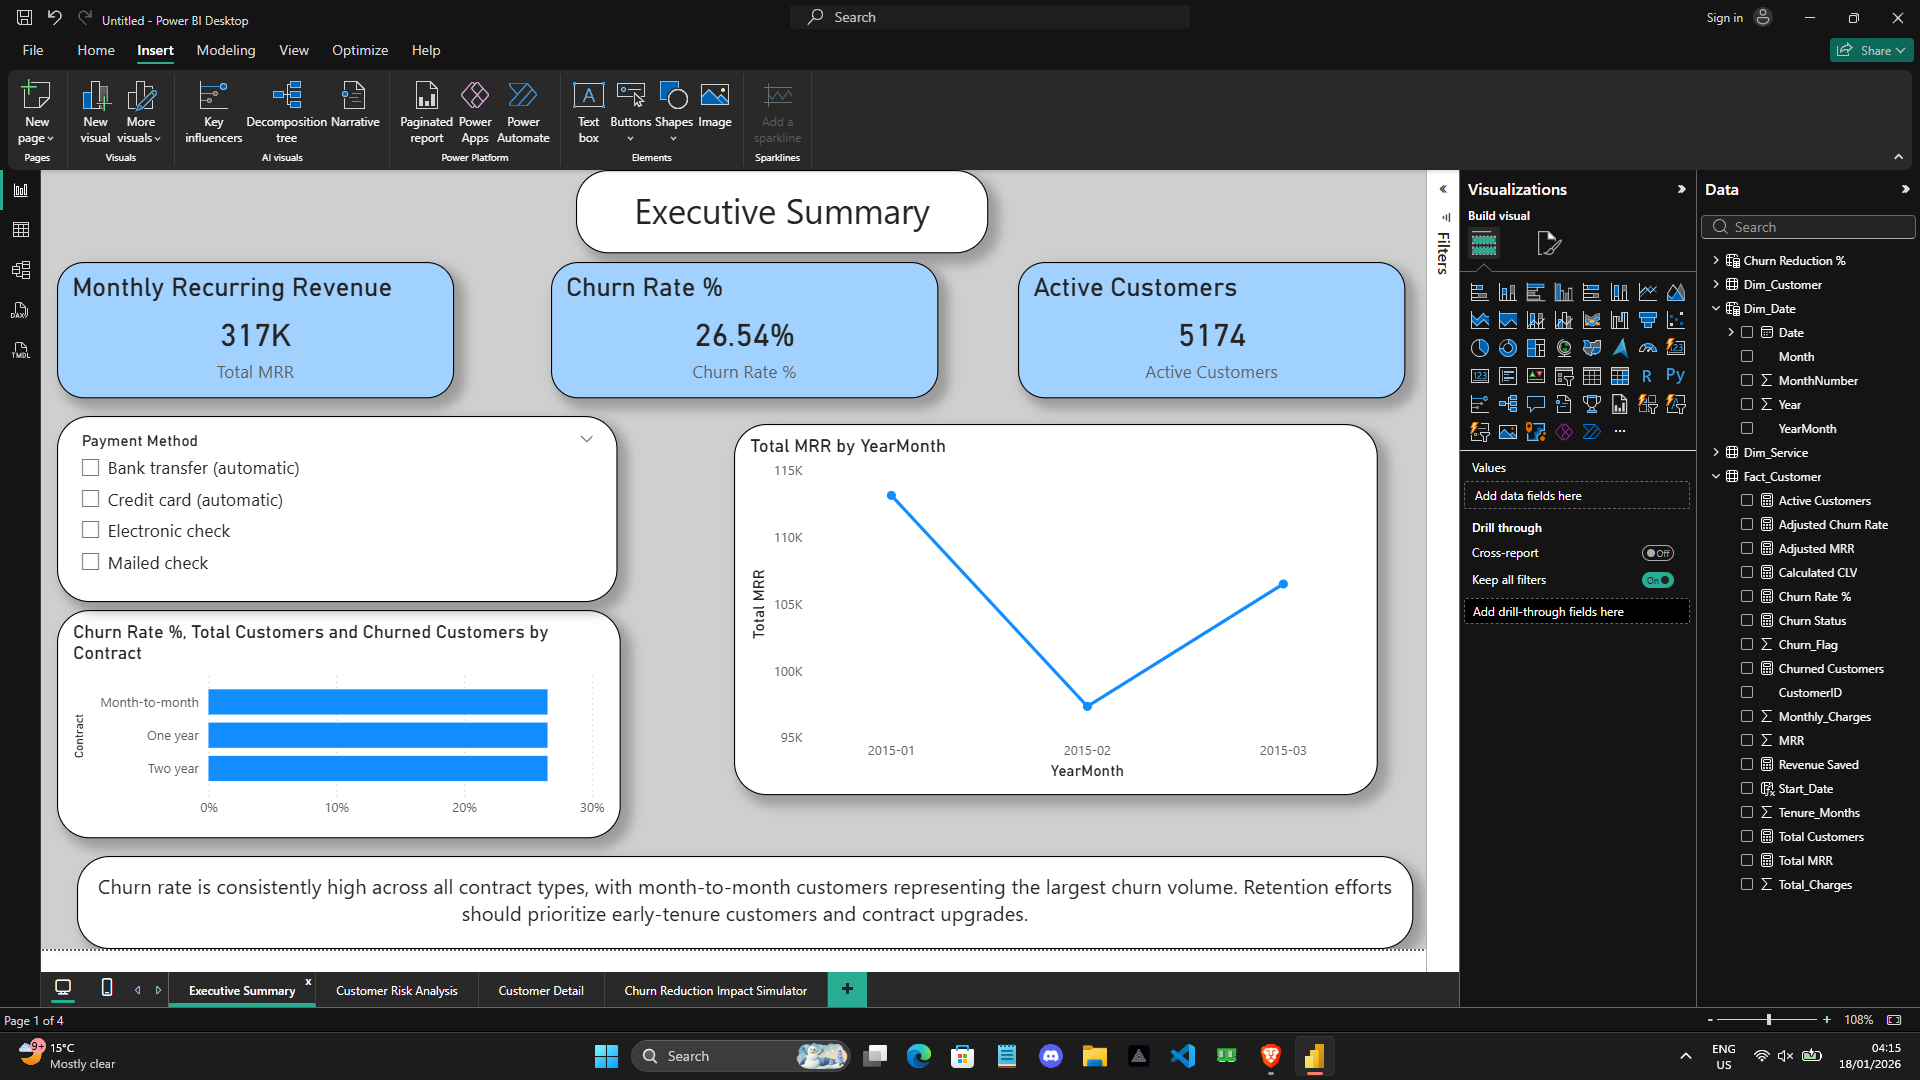

Layout of this report page (visuals, bound fields, positions):
{"tool":"powerbi","page":{"name":"Executive Summary ","canvas":[1280,720],"ordinal":0},"visuals":[{"type":"textbox","box":[494.4,0,380.8,76.7],"z":0},{"type":"card","title":"Monthly Recurring Revenue","fields":{"Values":["Fact_Customer.Total MRR"]},"box":[14.8,85,366.9,125.7],"z":1},{"type":"card","title":"Churn Rate %","fields":{"Values":["Fact_Customer.Churn Rate %"]},"box":[471.3,85,357.7,125.7],"z":2},{"type":"card","title":"Active Customers","fields":{"Values":["Fact_Customer.Active Customers"]},"box":[902.9,85,357.7,125.7],"z":3},{"type":"lineChart","fields":{"Y":["Fact_Customer.Total MRR"],"Category":["Dim_Date.YearMonth"]},"box":[640.5,234.7,595.2,342.9],"z":4},{"type":"clusteredBarChart","fields":{"Category":["Dim_Service.Contract"],"Y":["Fact_Customer.Churn Rate %"]},"box":[14.8,406.6,521.2,210.7],"z":5},{"type":"slicer","fields":{"Values":["Dim_Service.Payment Method"]},"box":[14.8,227.4,518.5,171.9],"z":6},{"type":"textbox","box":[33.3,634,1234.7,85.9],"z":7}]}

Visuals, with their boxes on the page's 1280x720 design canvas (x1, y1, x2, y2). These are canvas units, not pixel positions in the 1920x1080 screenshot, which may show the page scaled, cropped or inside an application window:
textbox: bbox(494, 0, 875, 77)
"Monthly Recurring Revenue" card: bbox(15, 85, 382, 211)
"Churn Rate %" card: bbox(471, 85, 829, 211)
"Active Customers" card: bbox(903, 85, 1261, 211)
lineChart - Fact_Customer.Total MRR x Dim_Date.YearMonth: bbox(640, 235, 1236, 578)
clusteredBarChart - Dim_Service.Contract x Fact_Customer.Churn Rate %: bbox(15, 407, 536, 617)
slicer - Dim_Service.Payment Method: bbox(15, 227, 533, 399)
textbox: bbox(33, 634, 1268, 720)
